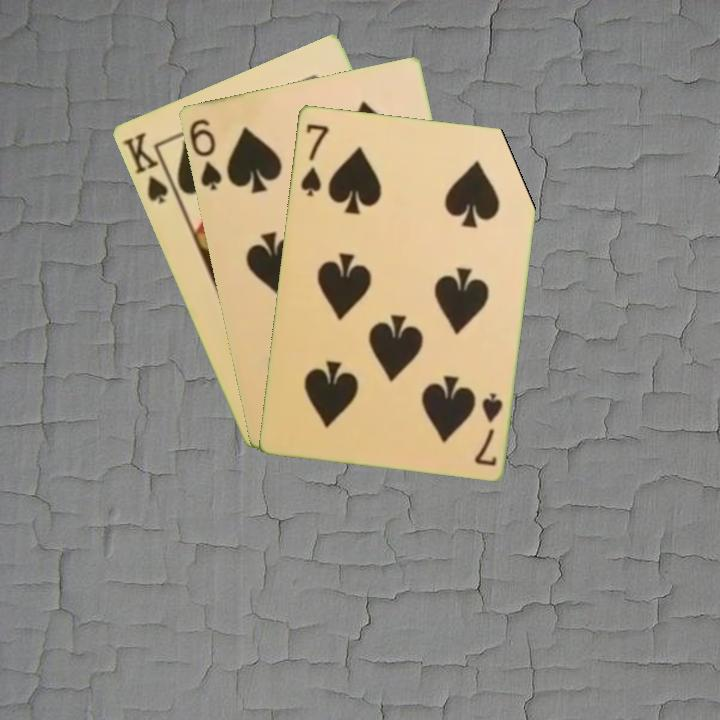6s: (185, 115, 224, 193)
7s: (470, 388, 505, 469), (297, 120, 331, 199)
Ks: (118, 128, 180, 206)
